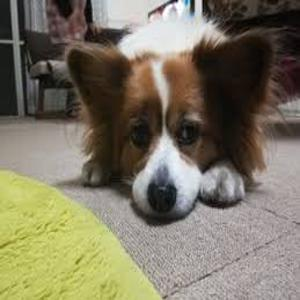yell: (65, 14, 277, 221)
